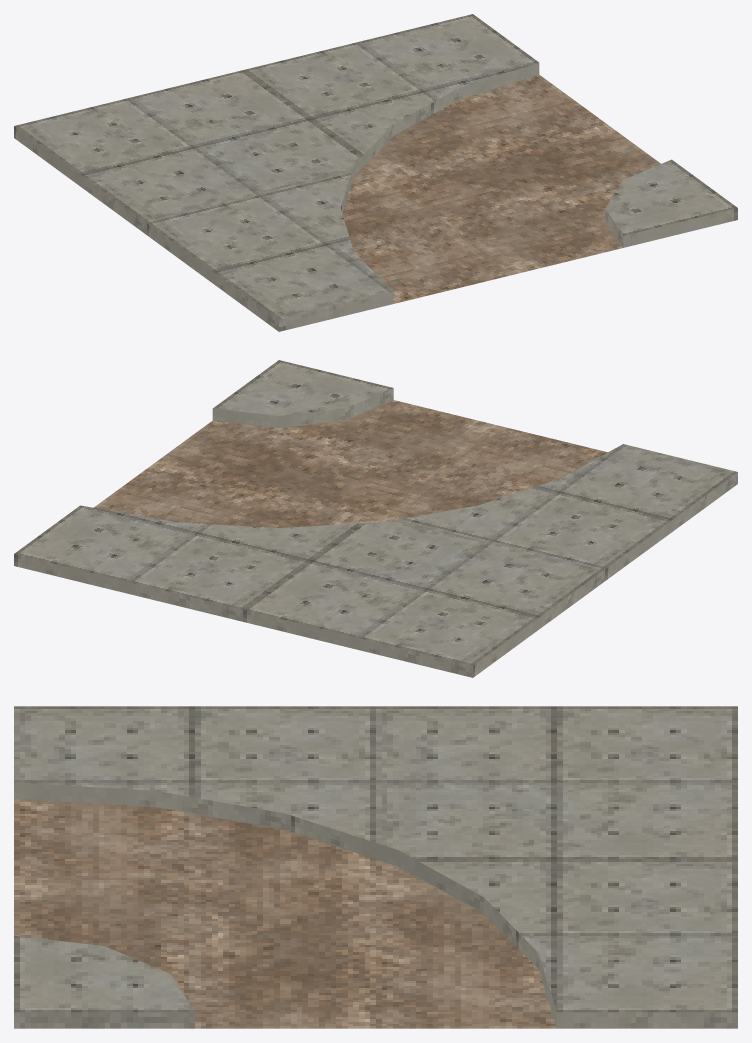
File: road-dirt-corner.glb
The picture shows the model from 3 angles, top to bottom: view 1: azimuth 30°, elevation 25°; view 2: azimuth 150°, elevation 25°; view 3: azimuth 270°, elevation 25°; orthographic projection. The views are drawn at different scales.
Parts seen in each view (by area): view 1: road-dirt-corner; view 2: road-dirt-corner; view 3: road-dirt-corner.
Boxes of the visible parts, box(x1,y1,x2,y2) form: road-dirt-corner: box(14, 14, 737, 331); road-dirt-corner: box(14, 360, 737, 677); road-dirt-corner: box(14, 706, 737, 1028).
Bounding box in the file's own units: 2 × 0.05 × 2.
3 materials, 3 textured.
